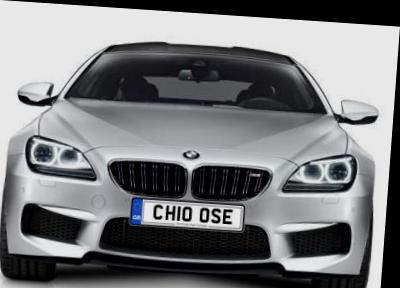License_Plate: (129, 196, 245, 229)
